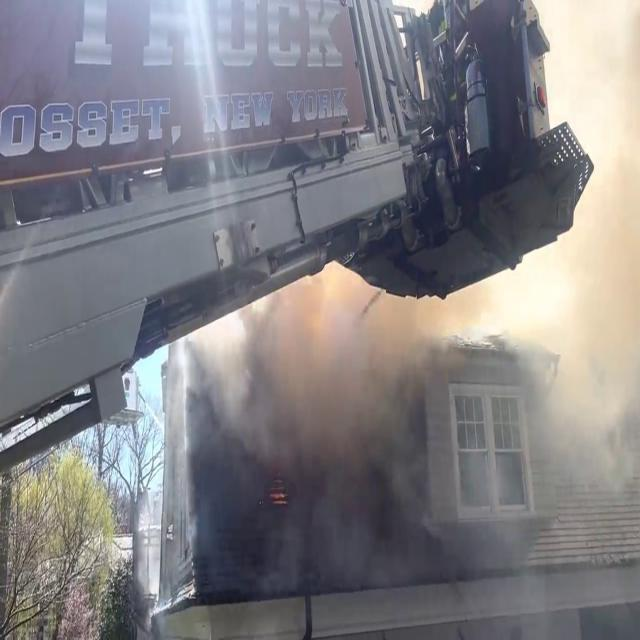Smoke: (198, 258, 640, 607)
